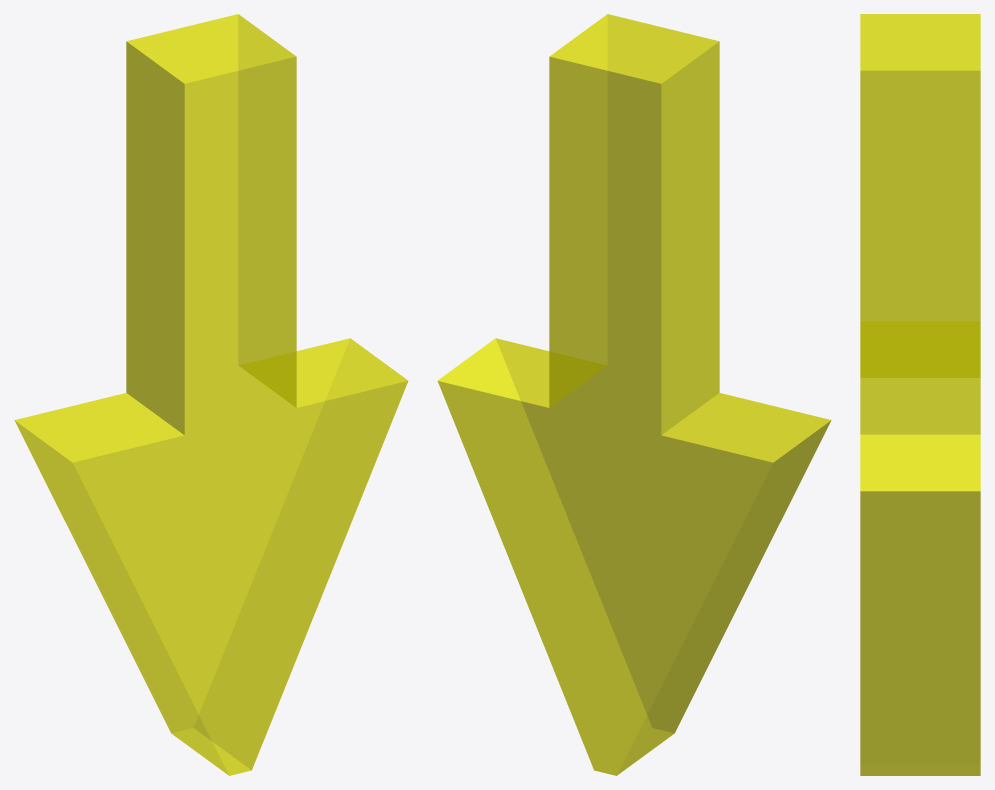
Rendered from arrow.glb.
3 renders of one model, left to right at view 1: azimuth 30°, elevation 25°; view 2: azimuth 150°, elevation 25°; view 3: azimuth 270°, elevation 25°, orthographic. The views are drawn at different scales.
Parts seen in each view (by area): view 1: Arrow; view 2: Arrow; view 3: Arrow.
Part boxes in pixels (left/top/right/bottom): Arrow: left=14, top=14, right=408, bottom=775; Arrow: left=437, top=14, right=831, bottom=775; Arrow: left=860, top=14, right=980, bottom=775.
Size of the model in its own units: 1 by 2 by 0.3.
1 material, 1 textured.
